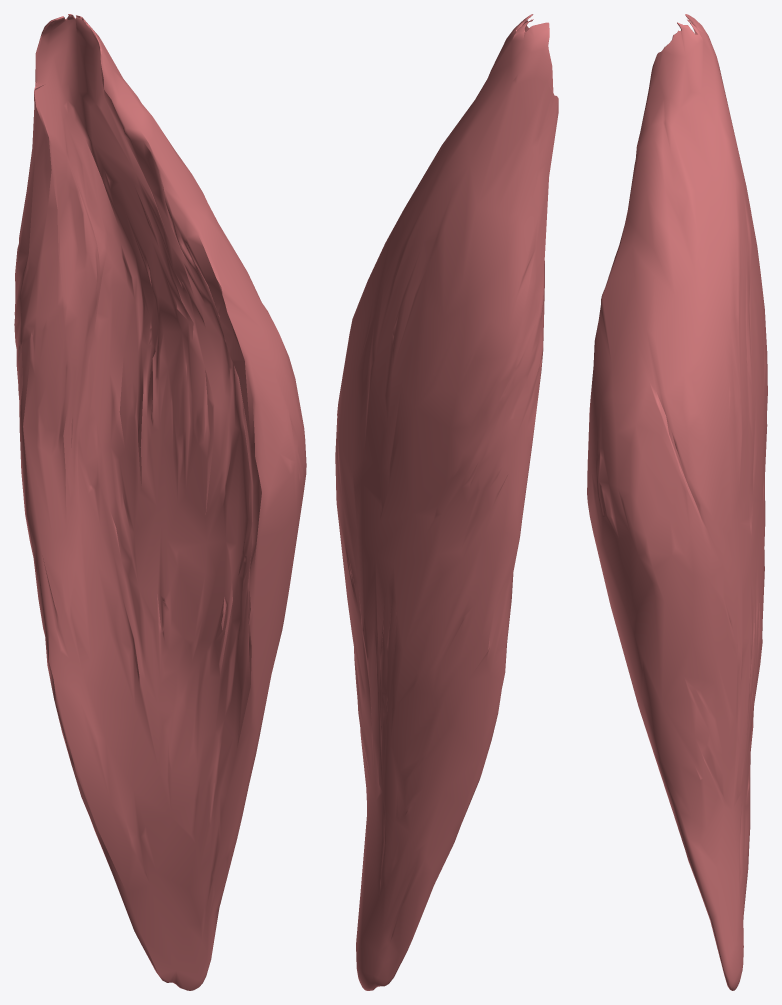
3 renders of one model, left to right at view 1: azimuth 30°, elevation 25°; view 2: azimuth 150°, elevation 25°; view 3: azimuth 270°, elevation 25°, orthographic. The views are drawn at different scales.
Visible parts, largest first — view 1: FJ1437; view 2: FJ1437; view 3: FJ1437.
Boxes of the visible parts, <box> form: FJ1437: <box>14,14,306,990</box>; FJ1437: <box>335,14,558,990</box>; FJ1437: <box>587,14,767,990</box>.
Bounding box in the file's own units: 0.0798 × 0.3244 × 0.0586.
